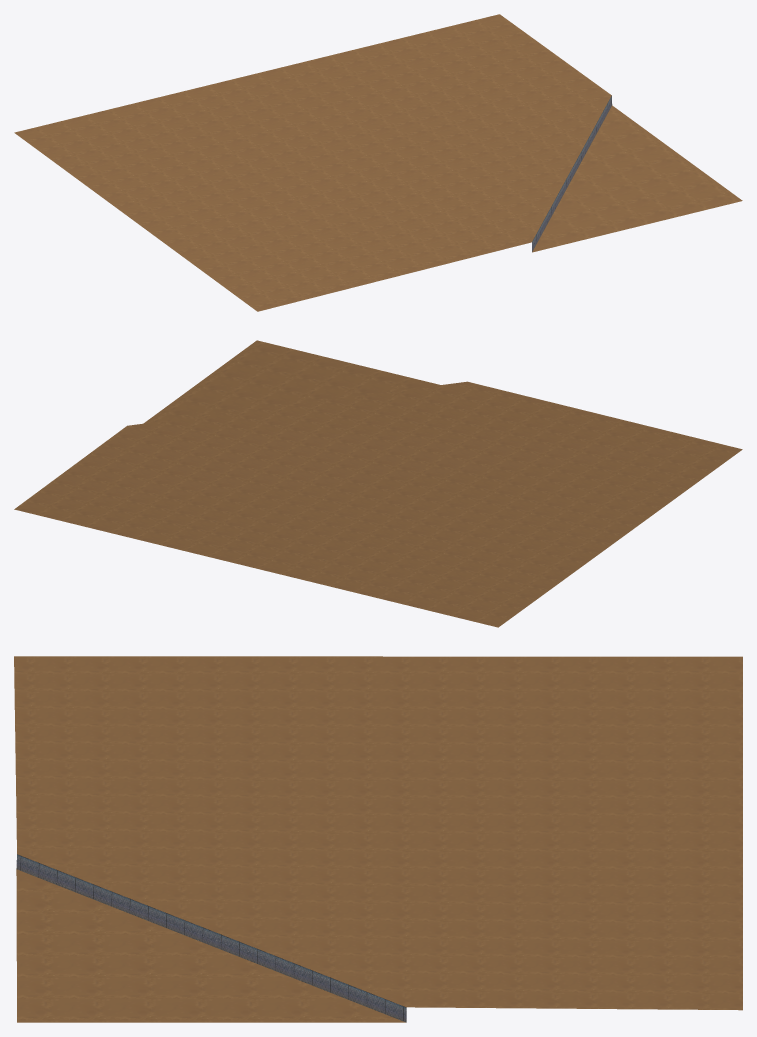
3 views of the same model, one above another, from view 1: azimuth 30°, elevation 25°; view 2: azimuth 150°, elevation 25°; view 3: azimuth 270°, elevation 25° (orthographic). The views are drawn at different scales.
Parts seen in each view (by area): view 1: d3; view 2: d3; view 3: d3.
Boxes of the visible parts, x1,y1,x2,y2 form: d3: (14, 14, 742, 311); d3: (14, 340, 742, 627); d3: (14, 656, 742, 1022).
Size of the model in its own units: 32979 by 652 by 28700.
2 materials, 2 textured.
